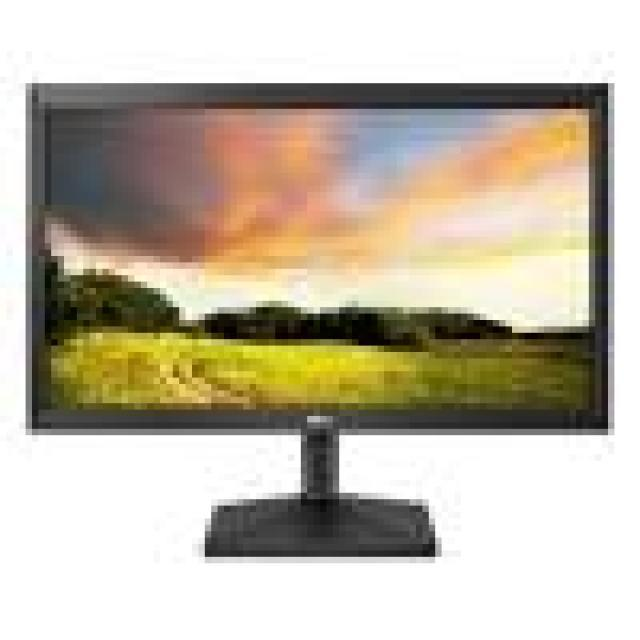monitor: (0, 72, 632, 639)
